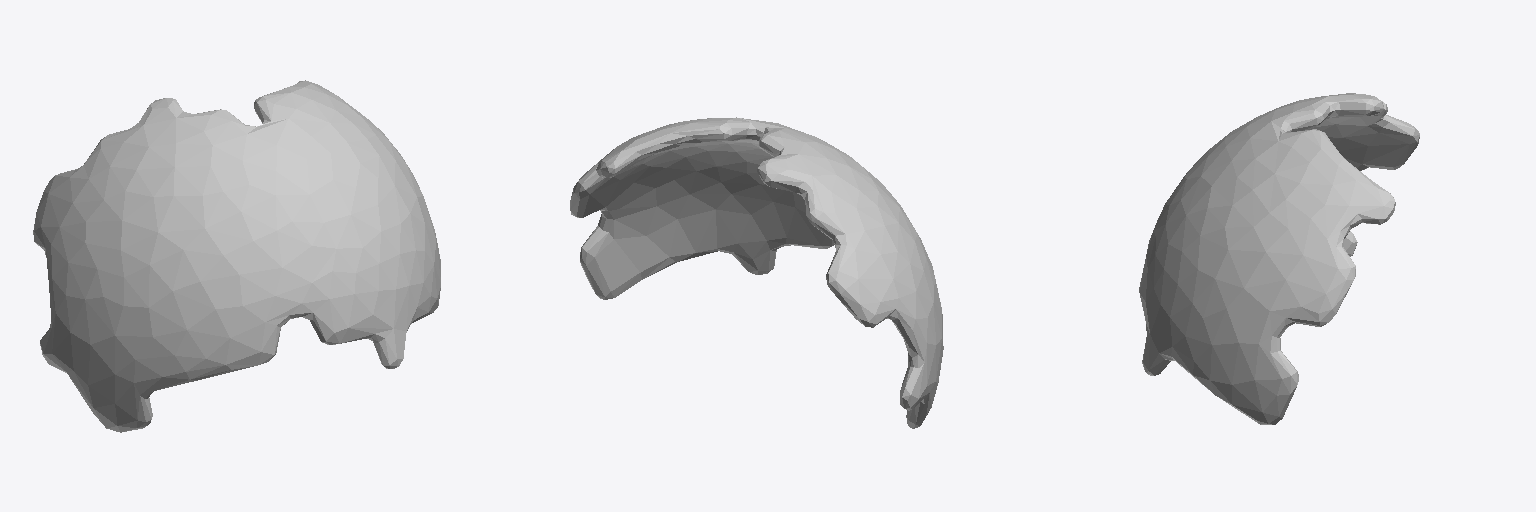
The model's file is EndoplasmicReticulum.obj.
The picture shows the model from 3 angles: view 1: azimuth 30°, elevation 25°; view 2: azimuth 150°, elevation 25°; view 3: azimuth 270°, elevation 25°; orthographic projection.
Parts seen in each view (by area): view 1: EndoplasmicRetuculum; view 2: EndoplasmicRetuculum; view 3: EndoplasmicRetuculum.
Boxes of the visible parts, x1,y1,x2,y2 form: EndoplasmicRetuculum: [33, 80, 440, 432]; EndoplasmicRetuculum: [570, 117, 943, 428]; EndoplasmicRetuculum: [1139, 93, 1419, 424].
Bounding box in the file's own units: 1.03 × 0.7471 × 0.6874.